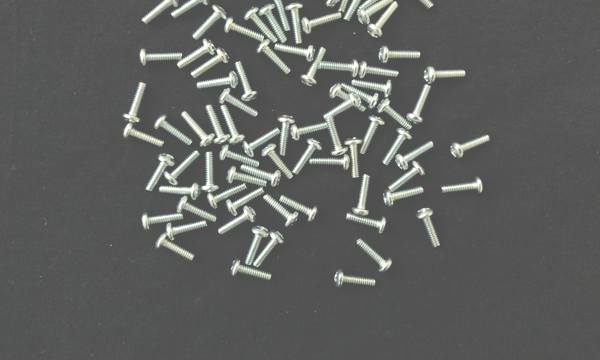shortscrew: (190, 4, 228, 41), (243, 6, 280, 44), (164, 151, 201, 187), (191, 47, 230, 80), (177, 39, 217, 71), (257, 39, 292, 75), (357, 240, 394, 274), (153, 114, 193, 145), (218, 87, 258, 118), (264, 195, 300, 229), (258, 2, 287, 44), (254, 230, 286, 268), (182, 112, 216, 147), (368, 2, 400, 39), (243, 127, 281, 158), (396, 141, 435, 171), (222, 16, 265, 43), (145, 154, 175, 192), (383, 128, 413, 166), (292, 138, 322, 176), (329, 84, 368, 113), (155, 234, 195, 262), (225, 188, 265, 216), (450, 134, 492, 160), (323, 93, 362, 121), (389, 161, 425, 191), (338, 85, 381, 110), (218, 207, 256, 235), (221, 104, 246, 146), (417, 208, 442, 250), (301, 47, 327, 87), (406, 85, 432, 125), (235, 61, 260, 102), (122, 82, 147, 123), (123, 124, 165, 148), (206, 105, 230, 147), (358, 0, 395, 27), (301, 12, 343, 35), (196, 70, 238, 93), (246, 226, 270, 266), (361, 115, 385, 155), (281, 196, 319, 221), (227, 166, 268, 189), (142, 0, 179, 25), (230, 260, 272, 282), (346, 213, 388, 235), (241, 165, 283, 187), (359, 59, 399, 81), (334, 269, 377, 289), (220, 147, 259, 169), (318, 58, 360, 78), (352, 174, 372, 216), (166, 221, 208, 241), (327, 118, 348, 158), (440, 176, 484, 195), (383, 187, 424, 207), (286, 2, 305, 44), (275, 43, 317, 62), (379, 46, 422, 64), (351, 80, 394, 98), (171, 0, 211, 19), (345, 138, 364, 178), (290, 122, 330, 141), (160, 183, 202, 201), (424, 67, 466, 85), (141, 212, 183, 230), (378, 100, 407, 126), (277, 115, 295, 155), (268, 0, 291, 31), (139, 49, 183, 65), (344, 0, 373, 22), (309, 155, 351, 170), (359, 0, 396, 13), (399, 0, 435, 10), (339, 0, 362, 13), (309, 0, 341, 8)
